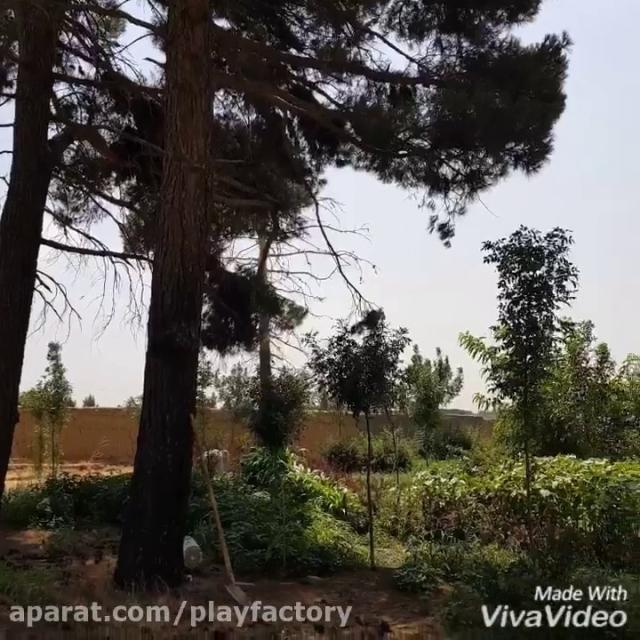drone: (317, 294, 327, 302)
